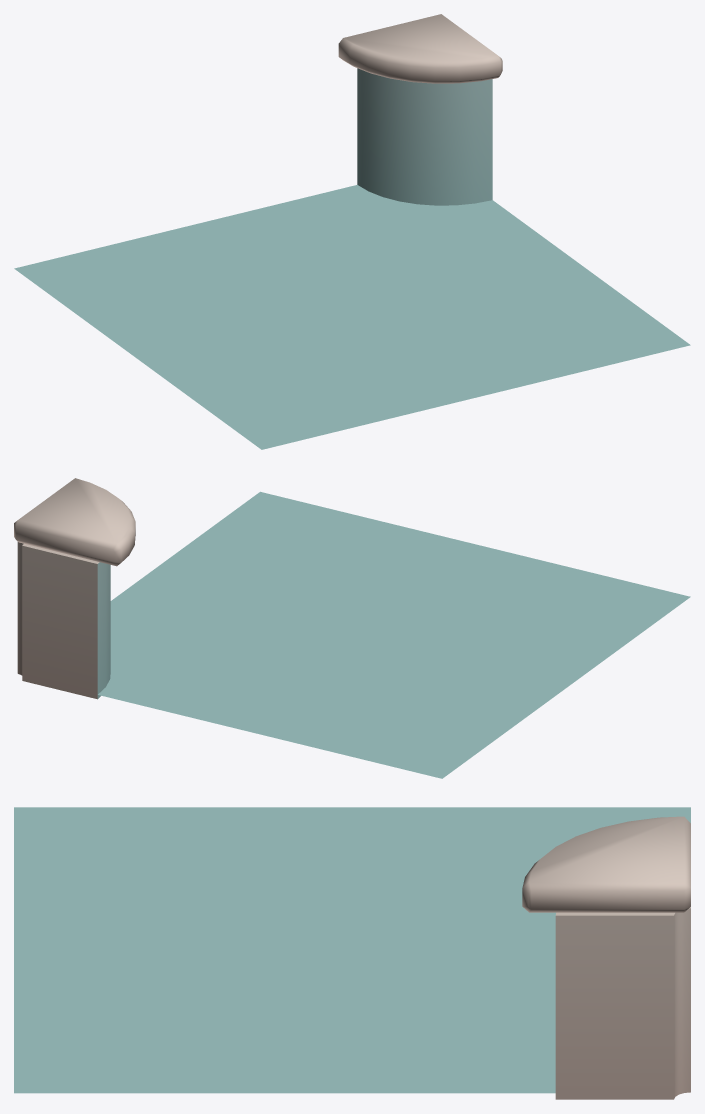
Rendered from pool-side-corner-inner.glb.
The picture shows the model from 3 angles, top to bottom: view 1: azimuth 30°, elevation 25°; view 2: azimuth 150°, elevation 25°; view 3: azimuth 270°, elevation 25°; orthographic projection. The views are drawn at different scales.
Visible parts, largest first — view 1: pool-side-corner-inner; view 2: pool-side-corner-inner; view 3: pool-side-corner-inner.
Boxes of the visible parts, x1,y1,x2,y2 form: pool-side-corner-inner: (14,14,690,449); pool-side-corner-inner: (14,478,690,778); pool-side-corner-inner: (14,807,690,1099).
Size of the model in its own units: 1 by 0.35 by 1.
